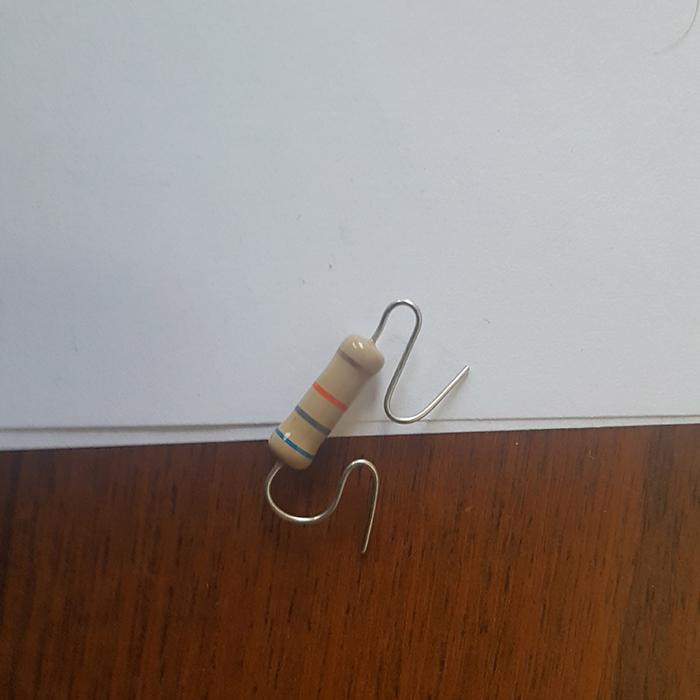resistor: (271, 334, 382, 468)
